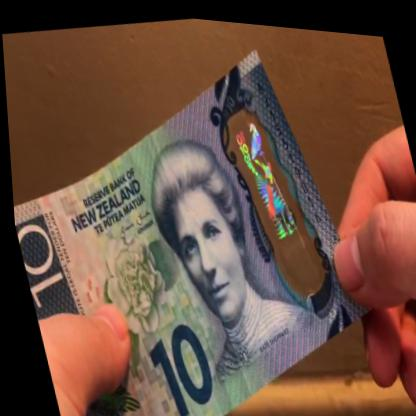10B: (228, 109, 310, 247)
